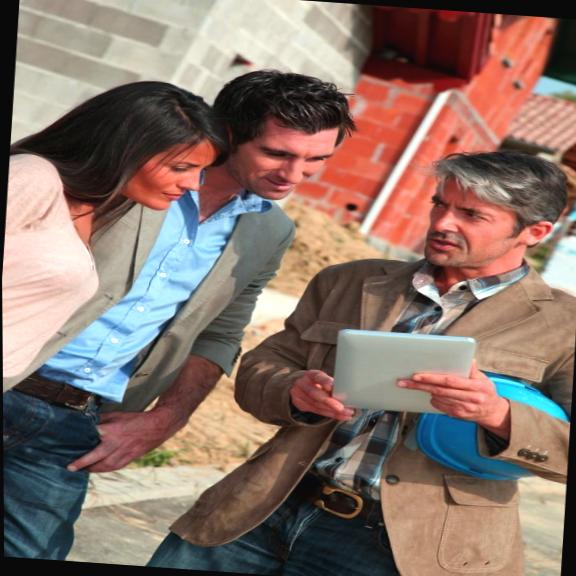no_safety_vest: (228, 245, 576, 563), (59, 176, 299, 434), (1, 139, 121, 444)
